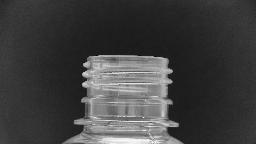No Cap: (70, 51, 182, 131)
